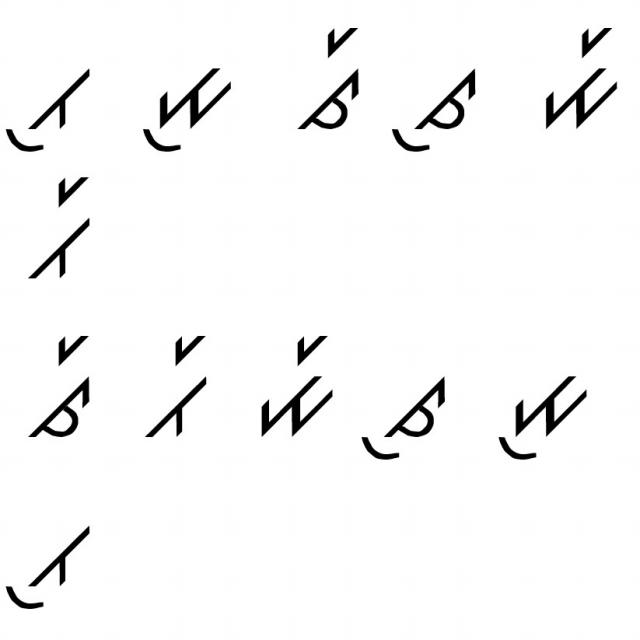bar: (142, 324, 212, 449), (25, 174, 96, 289)
baw: (1, 516, 100, 610), (2, 65, 96, 155)
car: (289, 15, 368, 134), (29, 323, 100, 445)
caw: (381, 54, 488, 164), (359, 359, 451, 469)
mar: (248, 322, 338, 442), (528, 26, 628, 133)
maw: (489, 361, 600, 463), (140, 50, 236, 158)
